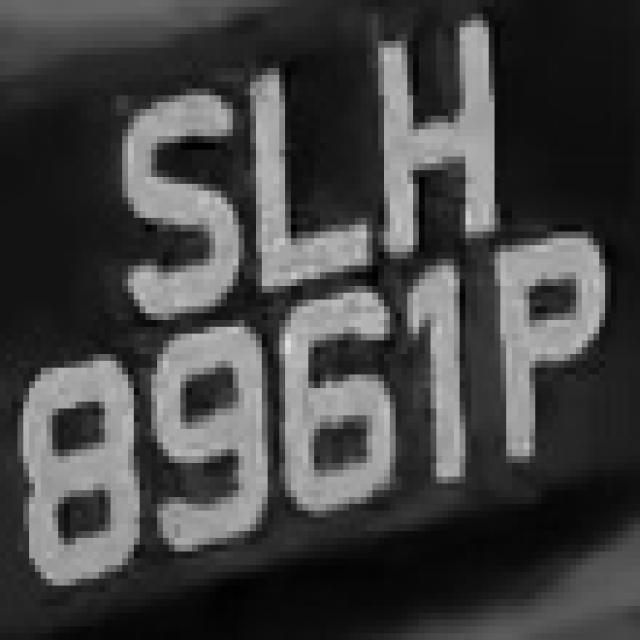1: (407, 259, 483, 504)
6: (273, 286, 419, 524)
8: (6, 347, 145, 620)
9: (146, 306, 285, 552)
H: (361, 13, 518, 266)
L: (238, 48, 372, 286)
P: (489, 211, 605, 456)
S: (105, 75, 244, 334)
